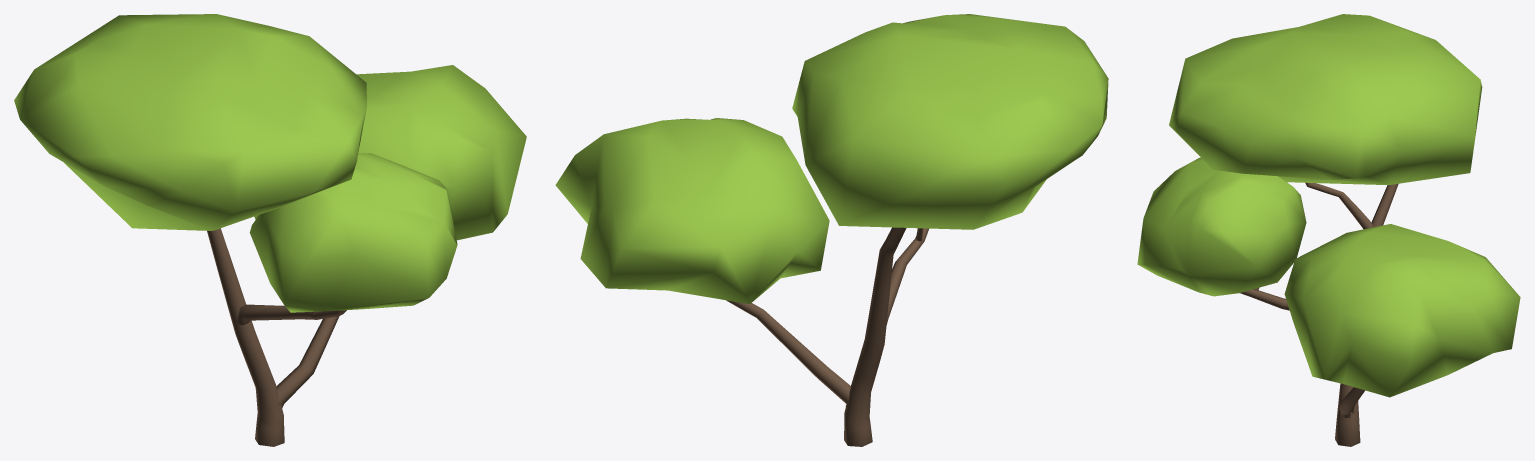
The model's file is tree_8.fbx.
The picture shows the model from 3 angles, left to right: view 1: azimuth 30°, elevation 25°; view 2: azimuth 150°, elevation 25°; view 3: azimuth 270°, elevation 25°; orthographic projection. The views are drawn at different scales.
Parts seen in each view (by area): view 1: Tube; view 2: Tube; view 3: Tube.
Part boxes in pixels (x1,y1,x2,y2): Tube: [14, 14, 526, 446]; Tube: [555, 14, 1108, 446]; Tube: [1137, 14, 1520, 446].
Size of the model in its own units: 81.64 by 64.92 by 61.83.
